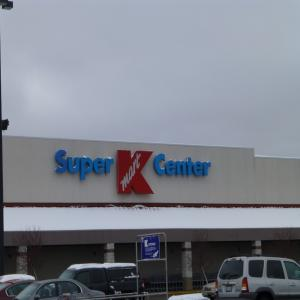Vehicle-registration-plate: (227, 287, 233, 293)
